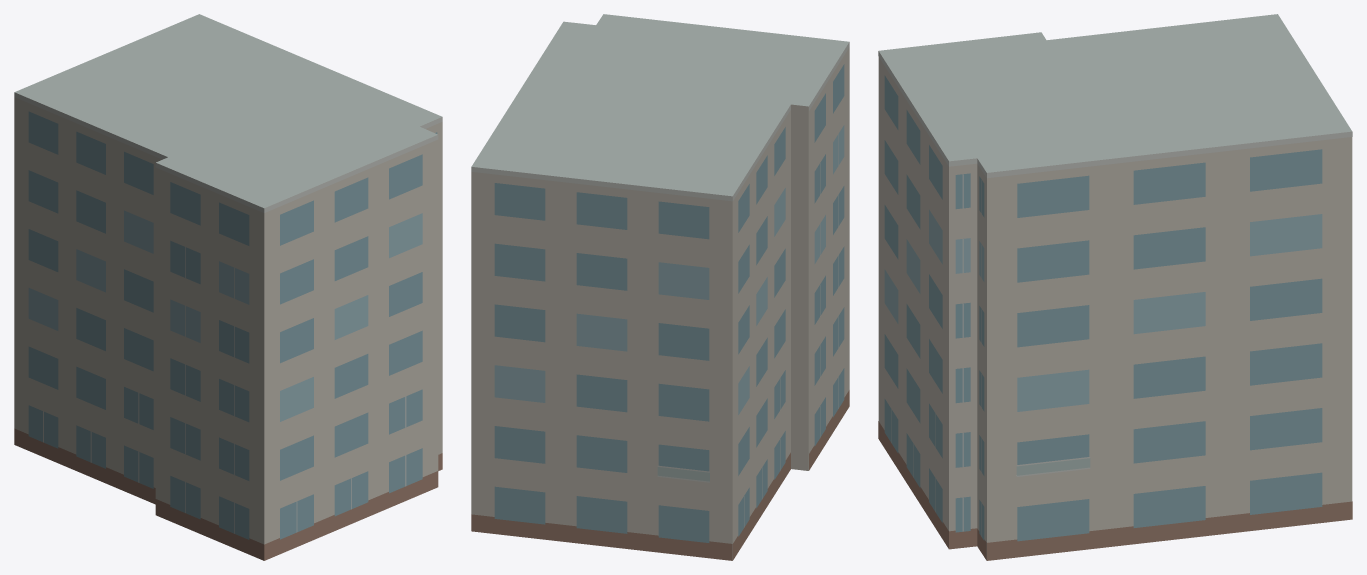
The model's file is survey-upis-32670362.glb.
3 renders of one model, left to right at view 1: azimuth 30°, elevation 25°; view 2: azimuth 150°, elevation 25°; view 3: azimuth 270°, elevation 25°, orthographic. The views are drawn at different scales.
Parts seen in each view (by area): view 1: survey-upis-32670362.tmp; view 2: survey-upis-32670362.tmp; view 3: survey-upis-32670362.tmp.
Boxes of the visible parts, x1=… form: survey-upis-32670362.tmp: x1=14, y1=14, x2=442, y2=560; survey-upis-32670362.tmp: x1=471, y1=14, x2=849, y2=560; survey-upis-32670362.tmp: x1=878, y1=14, x2=1352, y2=560.
Size of the model in its own units: 15.63 by 17.78 by 19.7.
